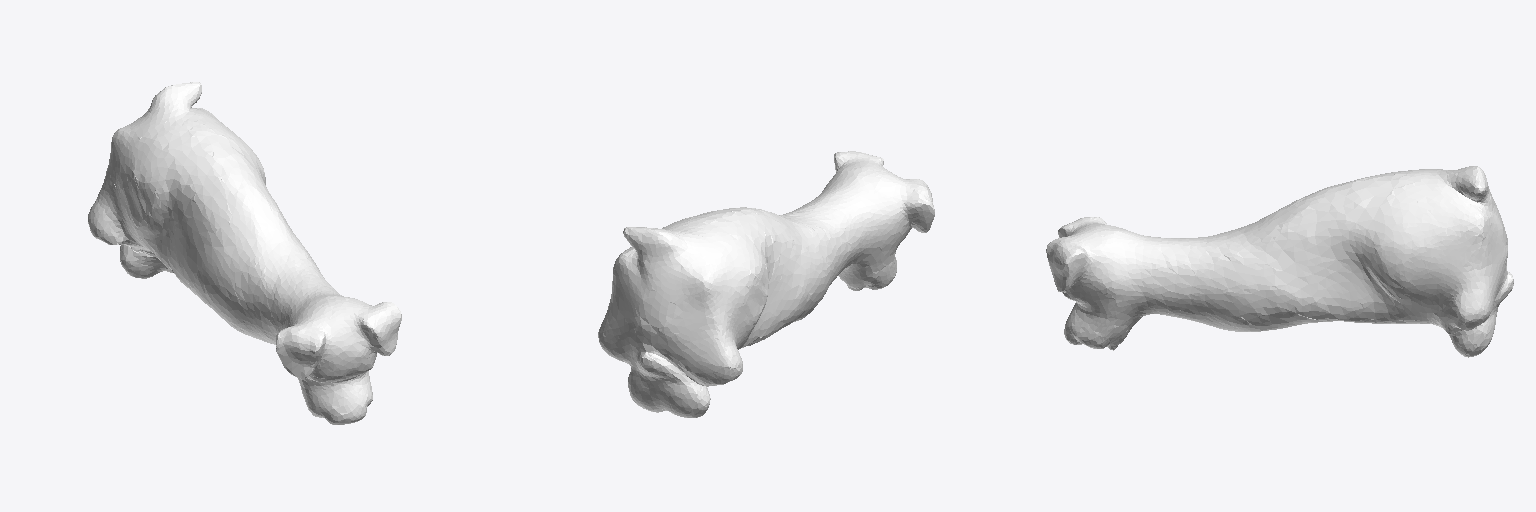
File: Dog.obj
The picture shows the model from 3 angles: view 1: azimuth 30°, elevation 25°; view 2: azimuth 150°, elevation 25°; view 3: azimuth 270°, elevation 25°; orthographic projection.
Parts seen in each view (by area): view 1: Dog; view 2: Dog; view 3: Dog.
Boxes of the visible parts, x1=… form: Dog: x1=88, y1=82, x2=401, y2=424; Dog: x1=598, y1=151, x2=934, y2=417; Dog: x1=1046, y1=166, x2=1513, y2=357.
Size of the model in its own units: 6.71 by 8.3 by 18.55.